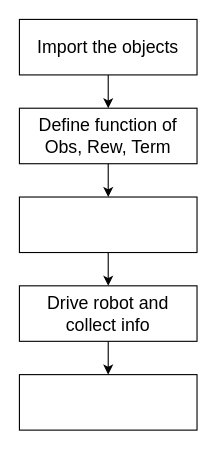
Image size: 216x450. Some labels were removed from this diagram. Each missing label, with the centre of its shape:
"Set initial state" belongs at pixel 107 224.
"Update neural network" belongs at pixel 107 402.
